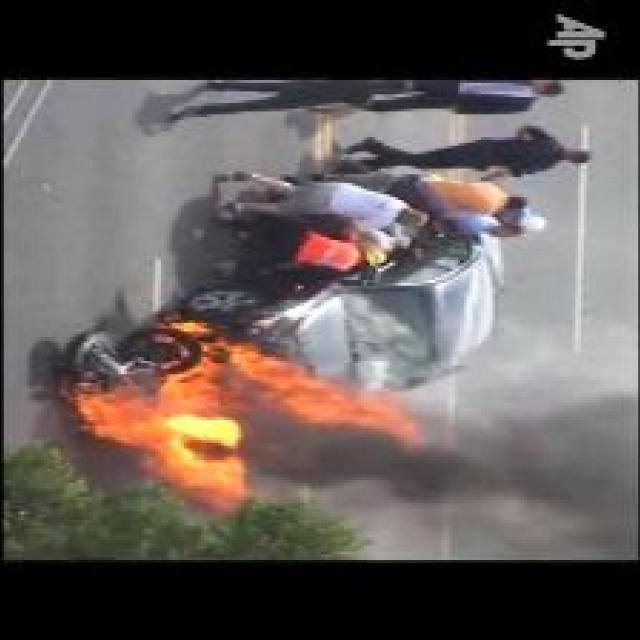Fire: (73, 322, 427, 508)
